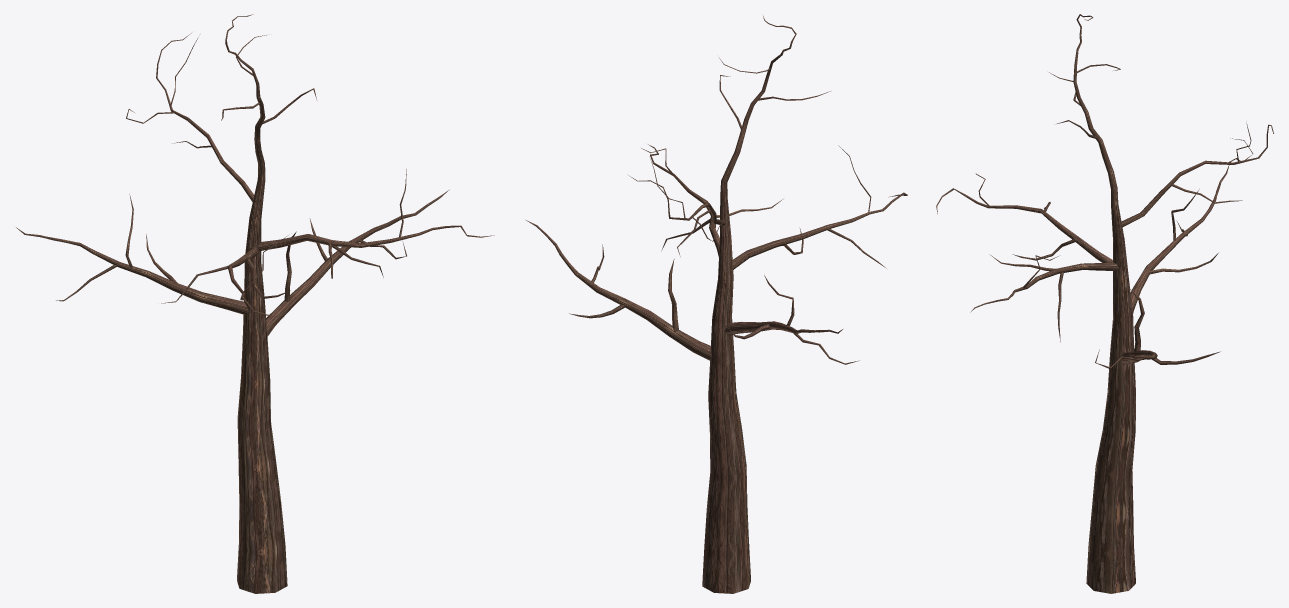
Rendered from eztree-standing-snag-b.glb.
3 views of the same model, side by side, from view 1: azimuth 30°, elevation 25°; view 2: azimuth 150°, elevation 25°; view 3: azimuth 270°, elevation 25° (orthographic). The views are drawn at different scales.
Visible parts, largest first — view 1: eztree-standing-snag-b; view 2: eztree-standing-snag-b; view 3: eztree-standing-snag-b.
Part boxes in pixels (box(x1,y1,x2,y2)): eztree-standing-snag-b: box(16, 14, 494, 593); eztree-standing-snag-b: box(526, 16, 907, 593); eztree-standing-snag-b: box(936, 14, 1273, 593).
Bounding box in the file's own units: 43.87 × 63.9 × 35.41.
Materials: 1 (1 with a texture image).
